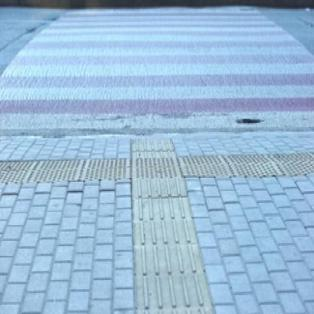Podoctatil: (0, 129, 314, 314)
